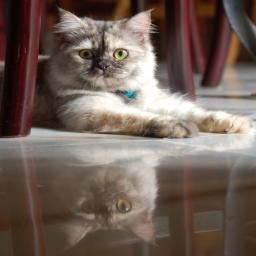catnose: (94, 60, 113, 71)
